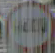Heavy Vehicles: (3, 5, 53, 52)
